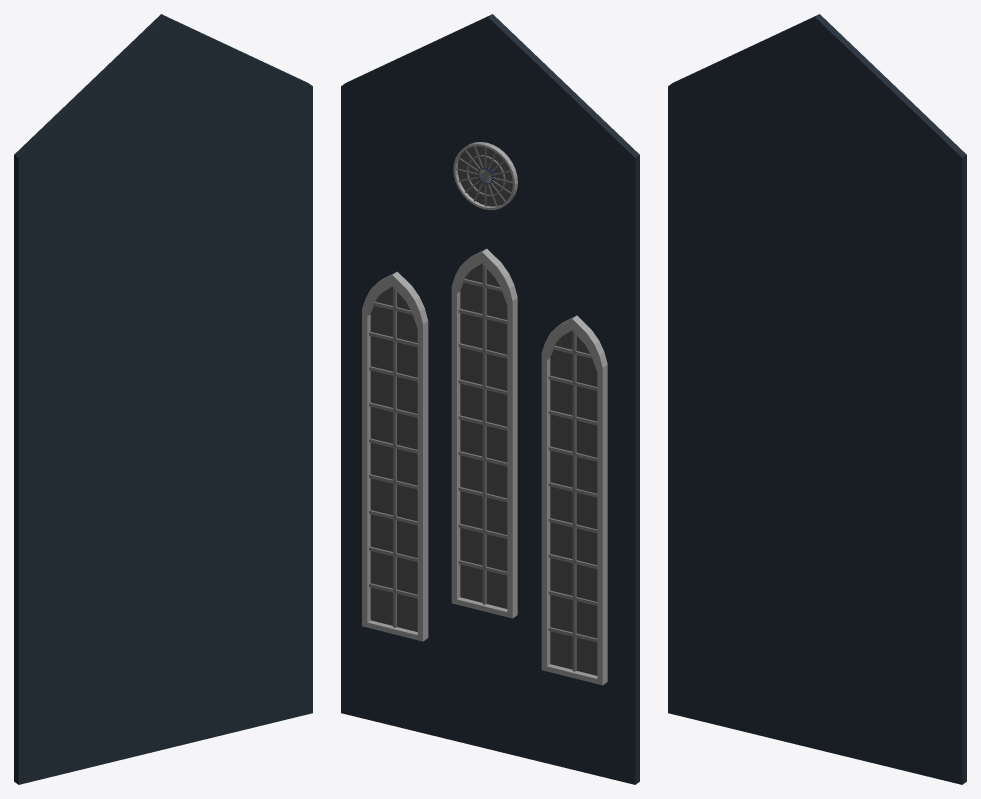
File: fist_floor_tower_window_wall.glb
The picture shows the model from 3 angles, left to right: view 1: azimuth 30°, elevation 25°; view 2: azimuth 150°, elevation 25°; view 3: azimuth 330°, elevation 25°; orthographic projection.
Parts seen in each view (by area): view 1: round_window_frame; view 2: round_window_frame; view 3: round_window_frame.
Boxes of the visible parts, <box> form: round_window_frame: <box>14,14,312,784</box>; round_window_frame: <box>341,14,639,784</box>; round_window_frame: <box>668,14,966,784</box>.
Bounding box in the file's own units: 11.89 × 28.27 × 0.6675.
